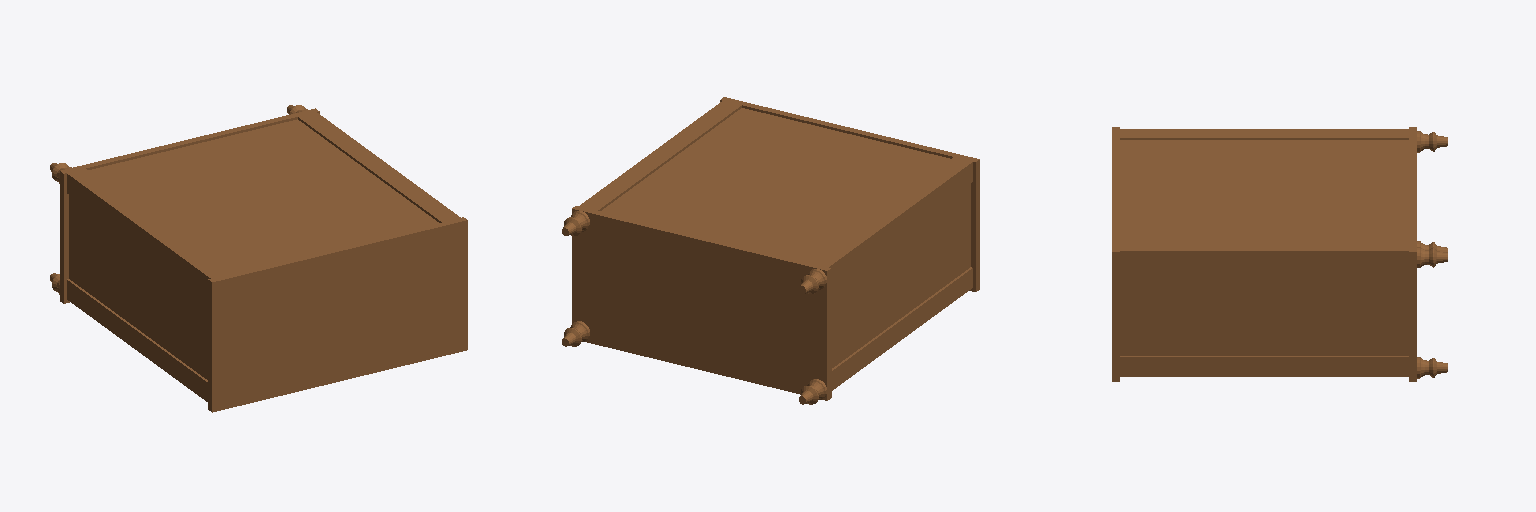
Rendered from 14307_Honey_Traditional_4_Drawer_Dresser-Honey_l1.obj.
3 renders of one model, left to right at view 1: azimuth 30°, elevation 25°; view 2: azimuth 150°, elevation 25°; view 3: azimuth 270°, elevation 25°, orthographic.
Visible parts, largest first — view 1: Box14367, Box14375, Box14373, Box14370, Box14369, Box14371, Box14368; view 2: Box14368, Box14375, Box14373, Box14370, Box14369, Box14371, Box14367, Cylinder2040; view 3: Box14375, Box14374, Box14371, Box14372, Box14370, Box14368, Box14367.
Boxes of the visible parts, <box> form: Box14367: <box>208,217,467,412</box>; Box14375: <box>88,119,438,273</box>; Box14373: <box>69,195,207,379</box>; Box14370: <box>67,169,228,295</box>; Box14369: <box>67,279,207,401</box>; Box14371: <box>298,112,460,222</box>; Box14368: <box>60,108,319,303</box>; Box14368: <box>572,206,831,400</box>; Box14375: <box>600,108,950,262</box>; Box14373: <box>832,184,970,367</box>; Box14370: <box>810,157,972,284</box>; Box14369: <box>832,267,972,390</box>; Box14371: <box>579,101,741,210</box>; Box14367: <box>720,97,979,291</box>; Cylinder2040: <box>799,379,826,404</box>; Box14375: <box>1120,140,1408,240</box>; Box14374: <box>1120,271,1408,355</box>; Box14371: <box>1120,241,1408,270</box>; Box14372: <box>1120,356,1408,376</box>; Box14370: <box>1120,129,1408,139</box>; Box14368: <box>1409,127,1416,381</box>; Box14367: <box>1112,127,1119,381</box>.
Bounding box in the file's own units: 119 × 59.05 × 136.